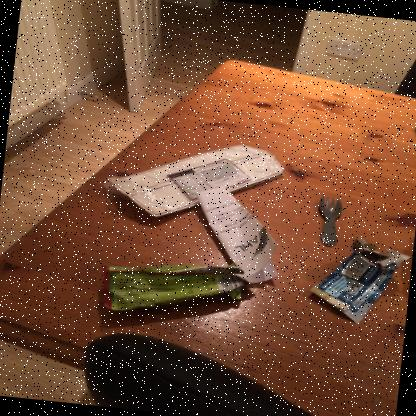Normal paper: (196, 186, 278, 282)
Other plastic: (309, 237, 411, 324), (103, 264, 256, 310)
Plastic film: (104, 144, 284, 213)
Plastic utensils: (319, 195, 342, 246)
